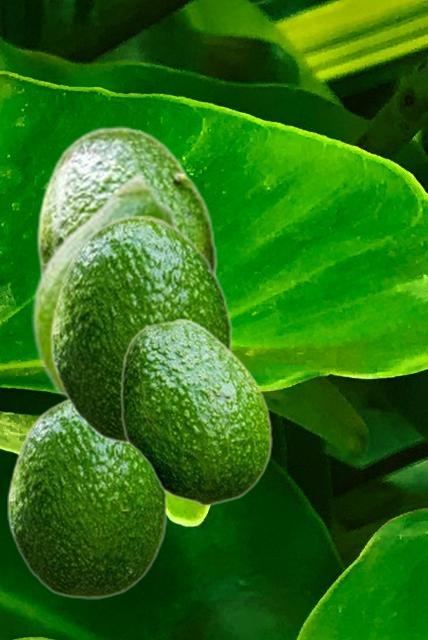avocado: (50, 214, 232, 444), (31, 169, 184, 399), (7, 399, 167, 598), (119, 317, 271, 505), (35, 126, 217, 277)
